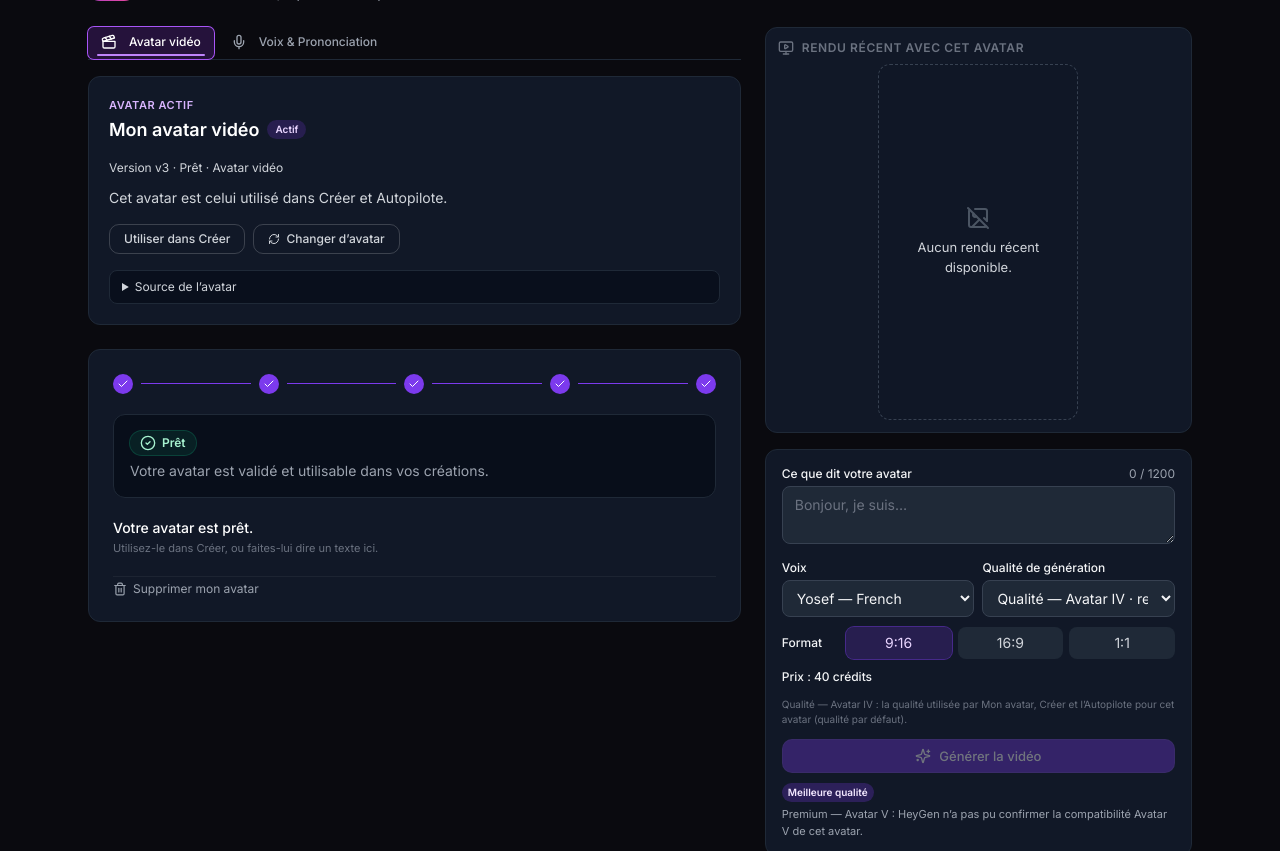
Page Mon avatar › ⚠️ « Qualité de génération » : Qualité — Avatar IV présélectionnée ; Premium — Avatar V affiché avec « Meilleure qualité » et sa vraie raison
Expected: the label "Qualité de génération" is shown, [982, 560, 1105, 574]
Expected: the dropdown labelled "Qualité de génération" shows "Qualité — Avatar IV · recommandé", [982, 580, 1175, 616]
Type "Bonjour." into the text box with placeholder "Bonjour, je suis…" at (978, 514), box [782, 486, 1175, 544]
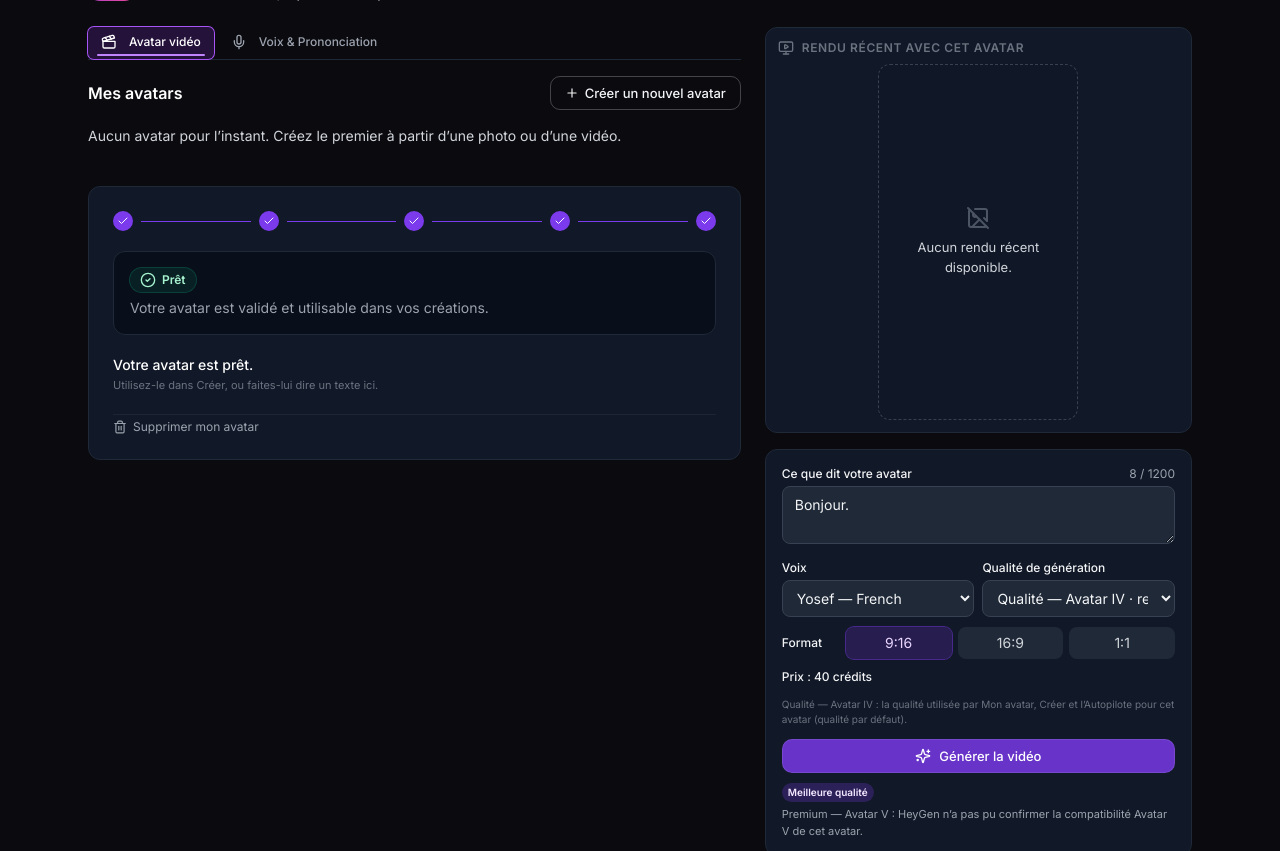
Click the button "Générer la vidéo" at (978, 756), box [782, 739, 1175, 773]
(page scrolled)
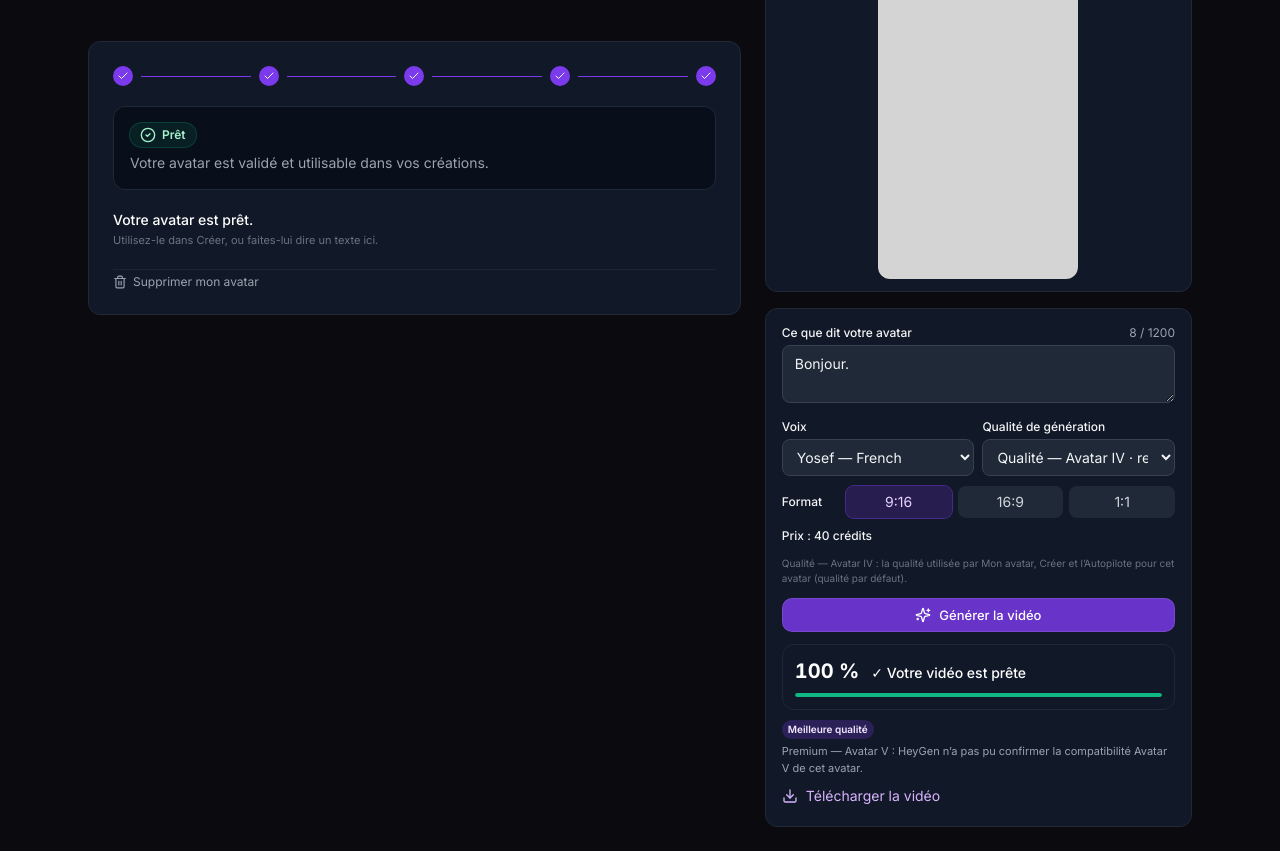
Result: the element showing "100 % ✓ Votre vidéo est prête" is shown at [782, 644, 1175, 710]
